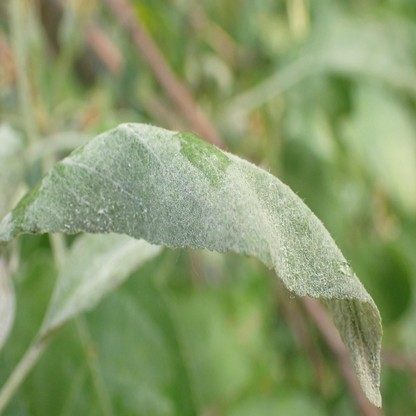powder: (1, 121, 381, 411), (41, 232, 163, 336)
